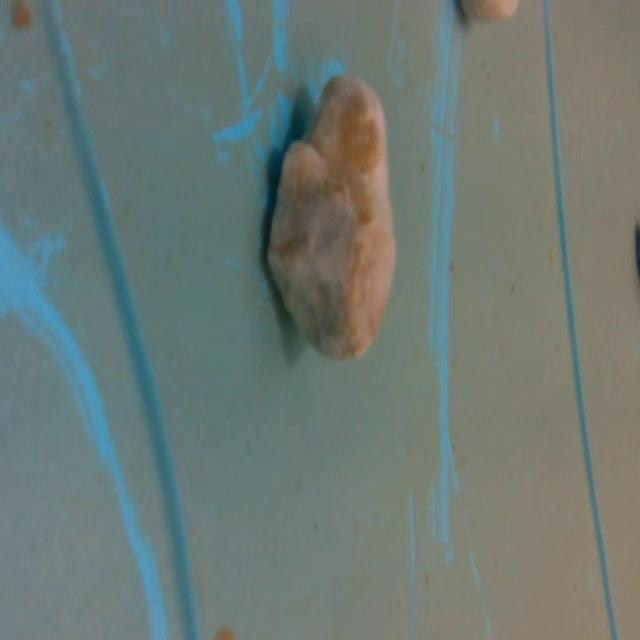rock: (261, 64, 409, 381)
